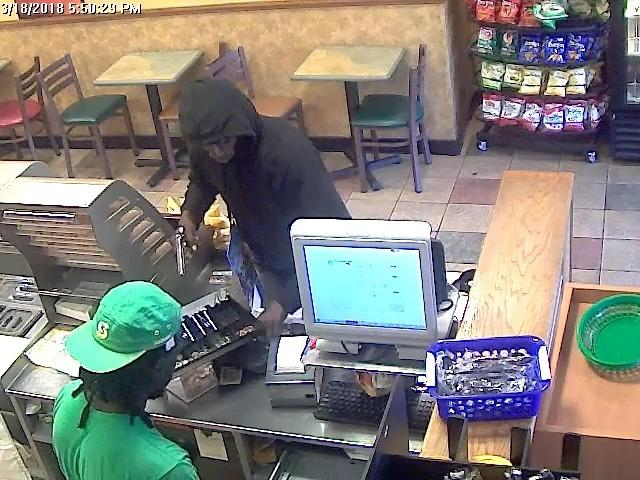weapon: (165, 220, 204, 277)
